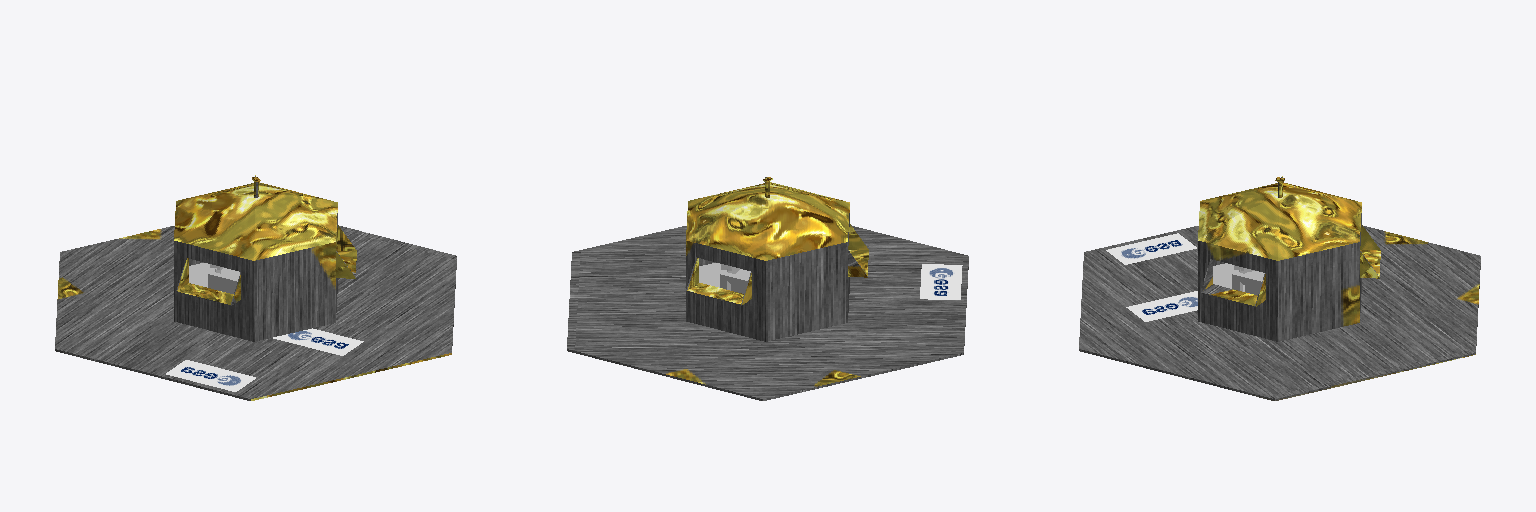
The picture shows the model from 3 angles: view 1: azimuth 30°, elevation 25°; view 2: azimuth 150°, elevation 25°; view 3: azimuth 270°, elevation 25°; orthographic projection.
Parts seen in each view (by area): view 1: Mesh1_Model, Mesh2_Model; view 2: Mesh1_Model, Mesh2_Model; view 3: Mesh1_Model, Mesh2_Model.
Part boxes in pixels (x1,y1,x2,y2): Mesh1_Model: (55,175,456,400); Mesh2_Model: (189,263,239,293); Mesh1_Model: (567,177,968,400); Mesh2_Model: (699,263,750,293); Mesh1_Model: (1079,176,1480,400); Mesh2_Model: (1213,263,1264,295).
Size of the model in its own units: 9.5 by 3.64 by 8.33.
2 materials, 1 textured.